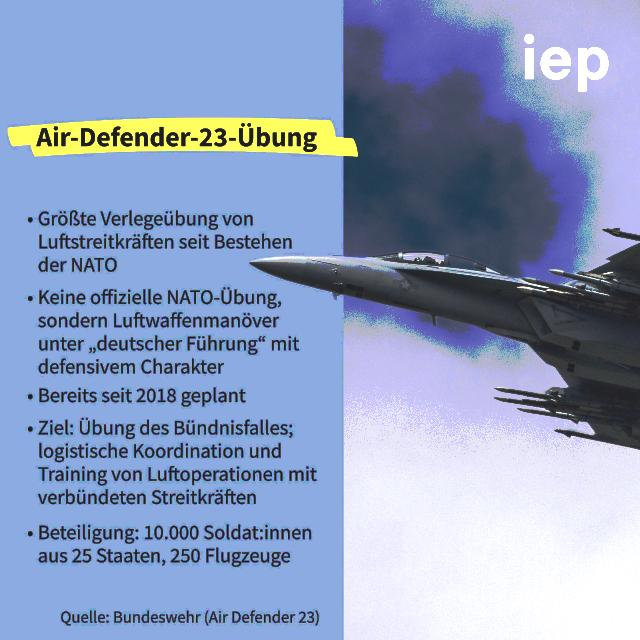Aircraft: (240, 199, 640, 454)
